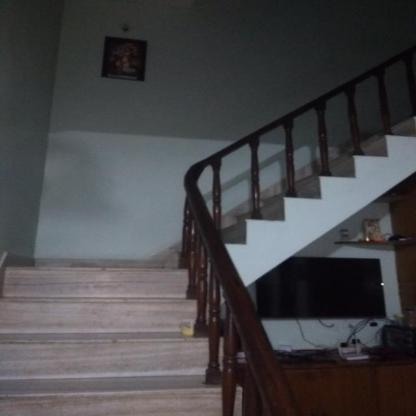stair: (0, 245, 235, 416)
